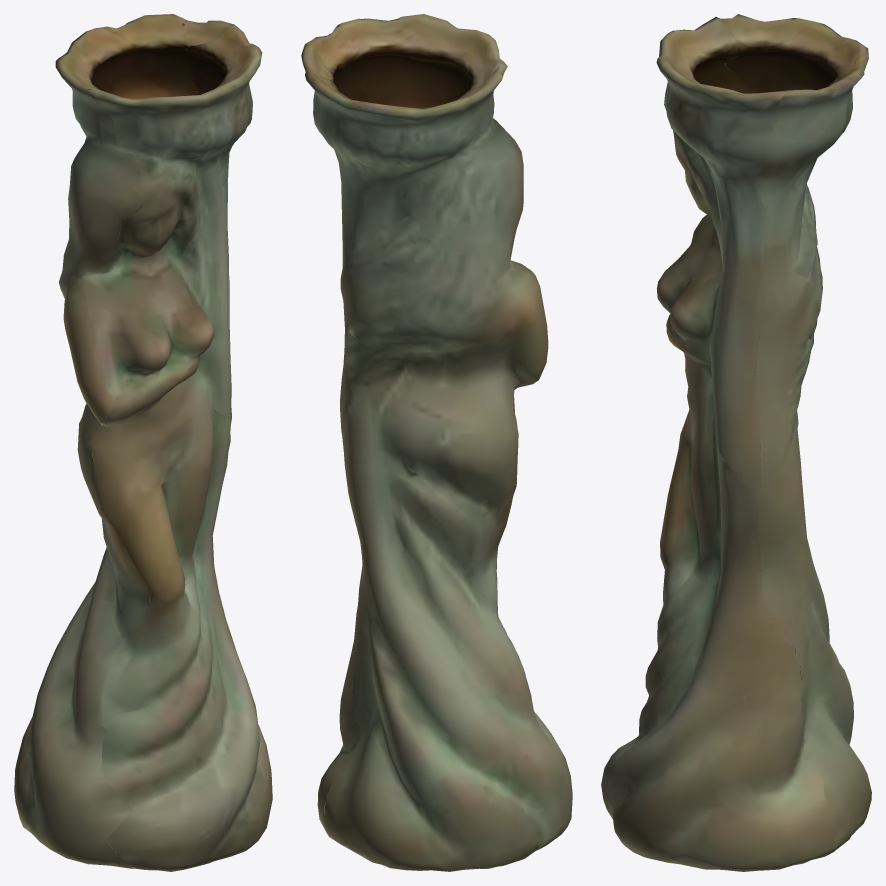
The model's file is obj_antique_vase.glb.
3 renders of one model, left to right at view 1: azimuth 30°, elevation 25°; view 2: azimuth 150°, elevation 25°; view 3: azimuth 270°, elevation 25°, orthographic. The views are drawn at different scales.
Parts seen in each view (by area): view 1: default_stat_0; view 2: default_stat_0; view 3: default_stat_0.
Part boxes in pixels (x1,y1,x2,y2): default_stat_0: [14, 14, 272, 871]; default_stat_0: [301, 14, 572, 871]; default_stat_0: [601, 14, 871, 871].
Size of the model in its own units: 0.1376 by 0.45 by 0.1388.
1 material, 1 textured.
